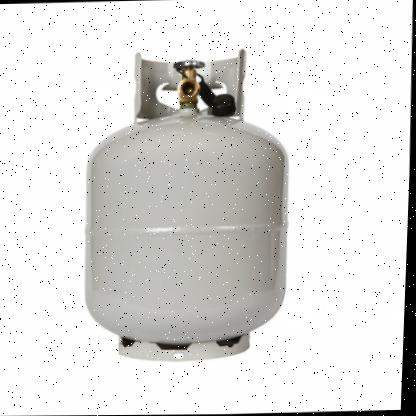gas-tank: (51, 33, 315, 371)
